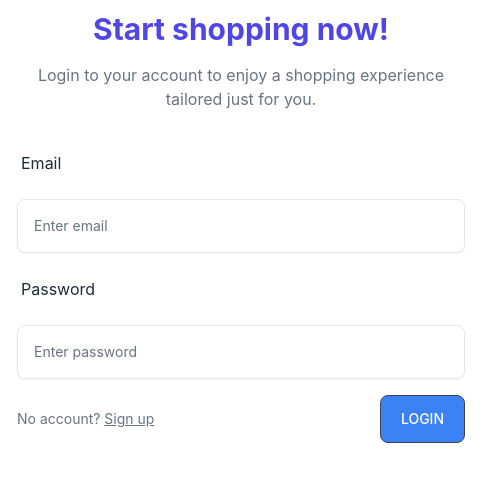
Test: Login › email field should show error message if › clicked and empty
Click the field labelled "Email" at (241, 226), box [17,199,465,253]
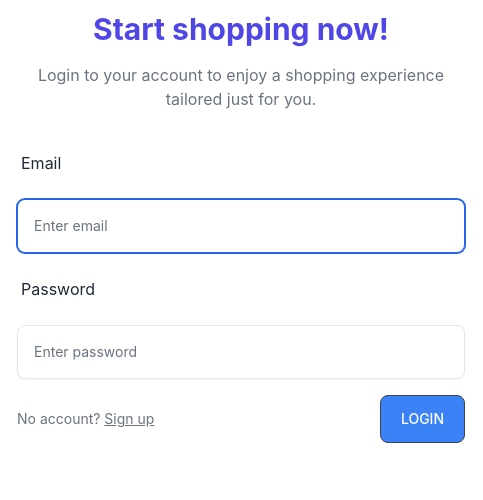
Click the password field labelled "Password" at (241, 352), box [17,325,465,379]
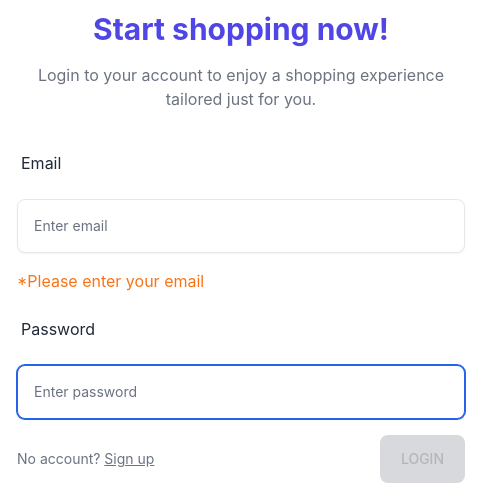
Result: the text "*Please enter your email" is shown at [17,271,204,291]
